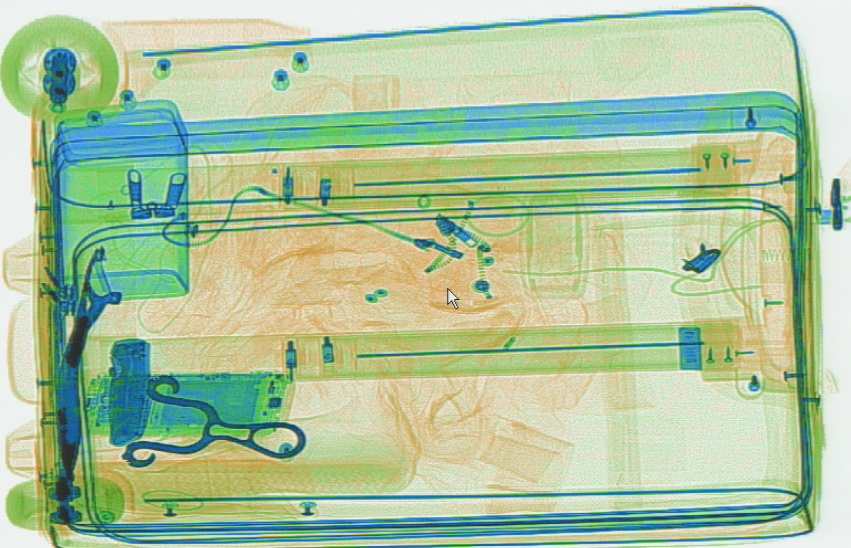knife: (56, 244, 125, 481), (104, 335, 153, 446)
slingshot: (120, 372, 306, 466)
